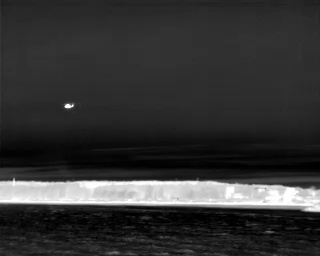HELICOPTER: (60, 99, 78, 113)
